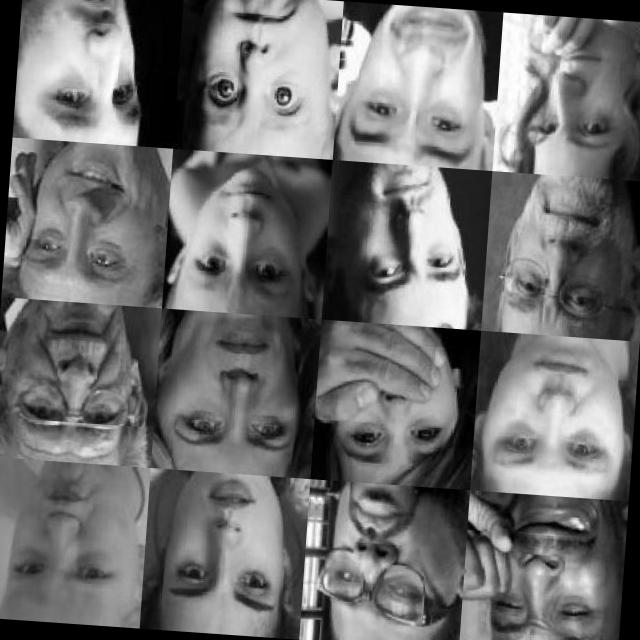angry: (150, 316, 300, 466), (514, 13, 640, 180), (8, 464, 142, 606), (322, 488, 451, 628)
fear: (180, 0, 329, 147), (171, 163, 313, 303), (332, 326, 458, 468)
happy: (331, 164, 472, 321), (16, 142, 156, 300), (500, 175, 626, 323)
neutral: (5, 312, 136, 454)
sad: (348, 2, 500, 165), (146, 472, 298, 618), (474, 498, 620, 640), (485, 350, 630, 490), (28, 0, 161, 130)
